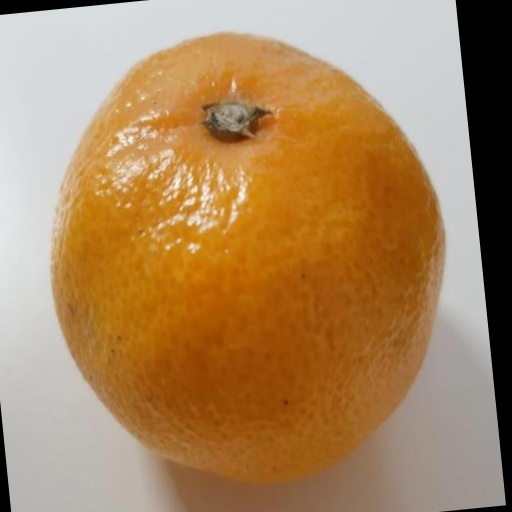fruit: (51, 34, 443, 481)
